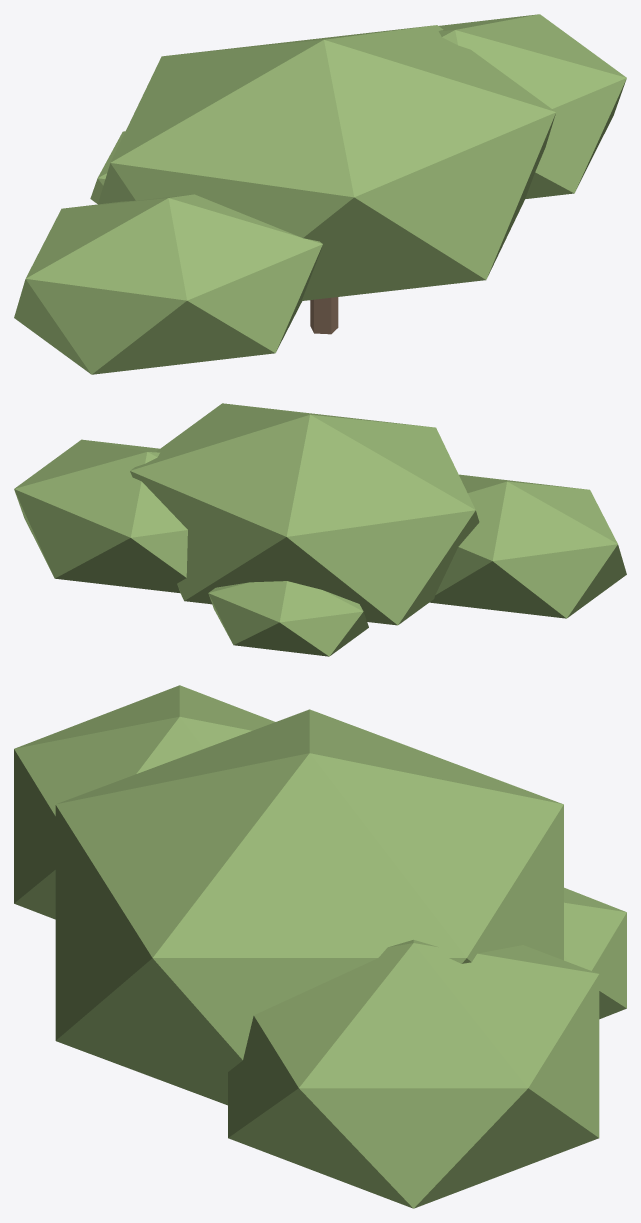
Rendered from sage.glb.
The picture shows the model from 3 angles, top to bottom: view 1: azimuth 30°, elevation 25°; view 2: azimuth 150°, elevation 25°; view 3: azimuth 270°, elevation 25°; orthographic projection. The views are drawn at different scales.
Parts seen in each view (by area): view 1: Clump_A, Clump_B, Clump_C, Stem; view 2: Clump_A, Clump_B, Clump_C, Clump_D; view 3: Clump_A, Clump_C, Clump_B, Clump_D.
Part boxes in pixels (x1,y1,x2,y2): Clump_A: [98, 25, 556, 300]; Clump_B: [14, 194, 322, 374]; Clump_C: [438, 14, 626, 199]; Stem: [310, 297, 338, 334]; Clump_A: [130, 403, 479, 625]; Clump_B: [429, 474, 626, 618]; Clump_C: [14, 439, 187, 592]; Clump_D: [208, 581, 368, 656]; Clump_A: [55, 709, 563, 1105]; Clump_C: [228, 939, 599, 1208]; Clump_B: [14, 685, 274, 919]; Clump_D: [564, 887, 626, 1019].
Size of the model in its own units: 1.59 by 0.648 by 0.9436.
